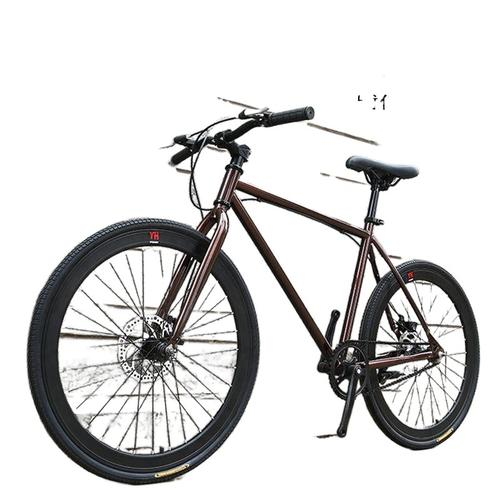单车: (18, 74, 488, 492)
